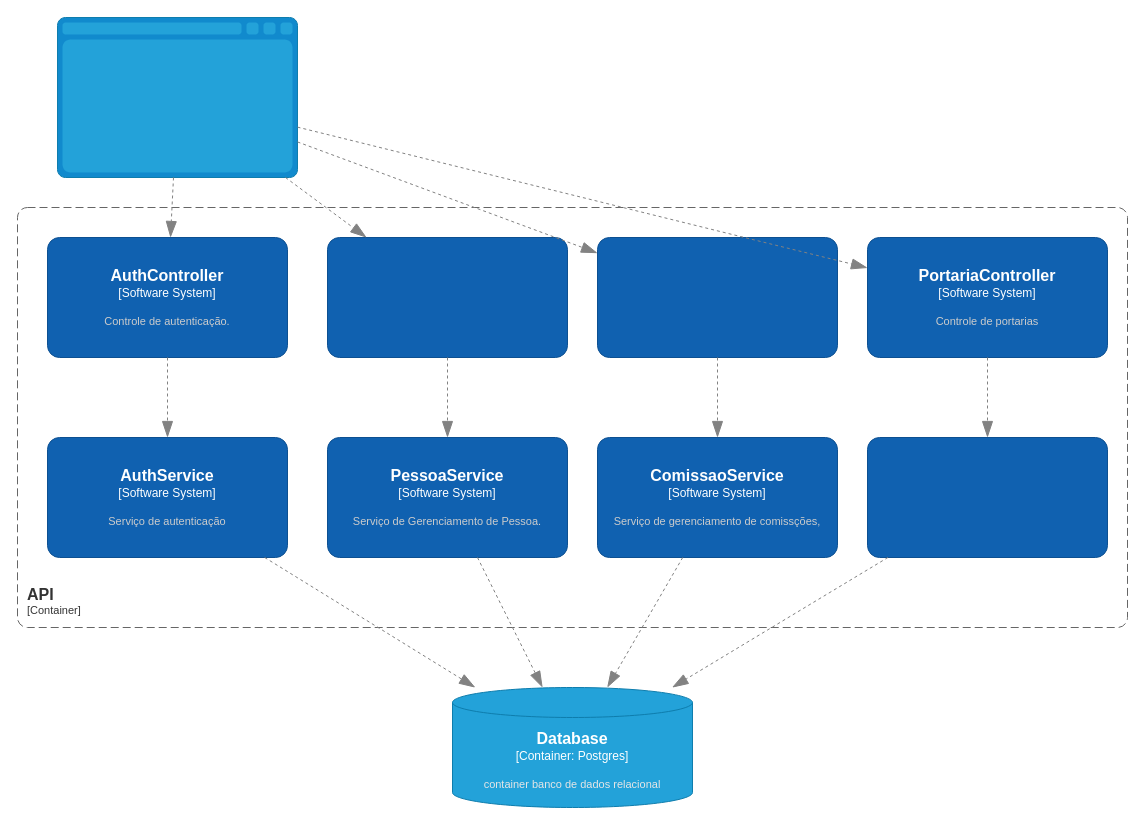
The diagram is 1145 pixels wide and 825 high, and some of its shapes have lost their labels. Each missing label, with the centre of its shape:
"ComissaoController [Software System] Controle de comissão" goes at (717,297).
"PessoaController [Software System] Description of software system." goes at (447,297).
"PortariaService [Software System] Serviço de portaria" goes at (987,497).
"Single-Page Application [Container: JavaScript, Angular] Página web" goes at (177,97).
